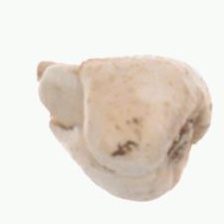L3: (35, 58, 89, 132)
L4: (36, 55, 212, 202)
